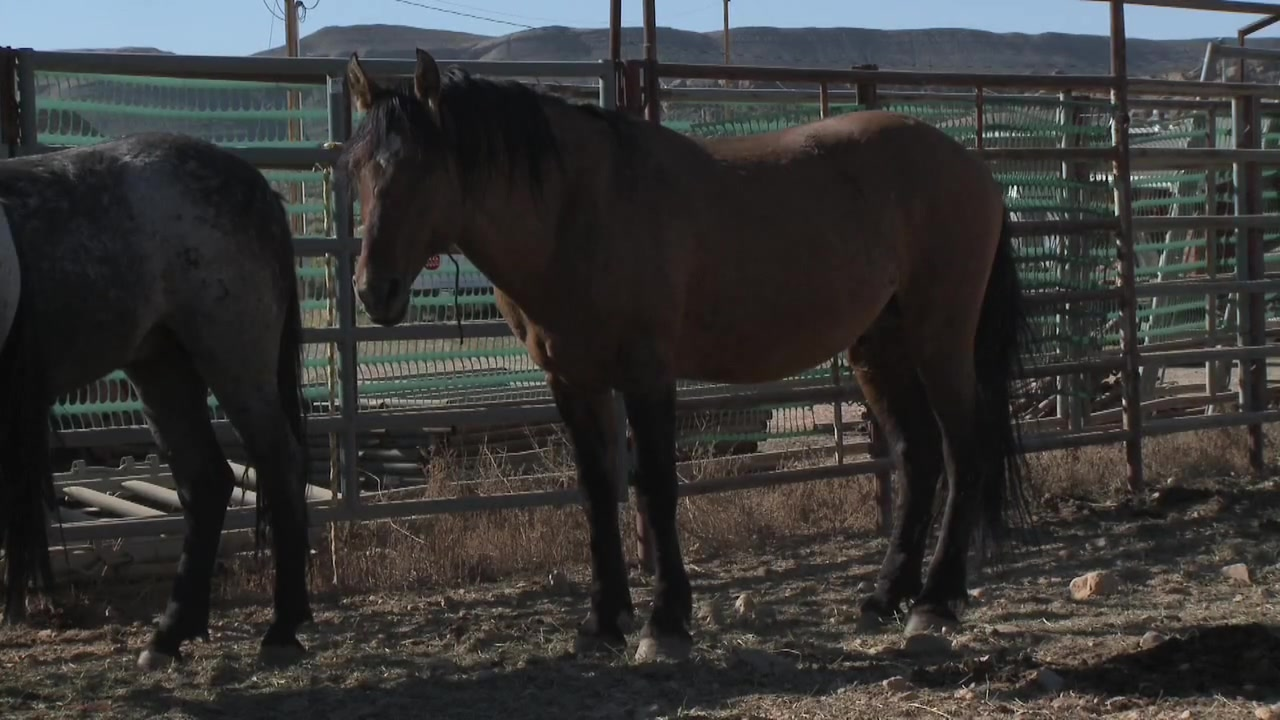horse: (342, 51, 1033, 669), (1, 128, 316, 682)
